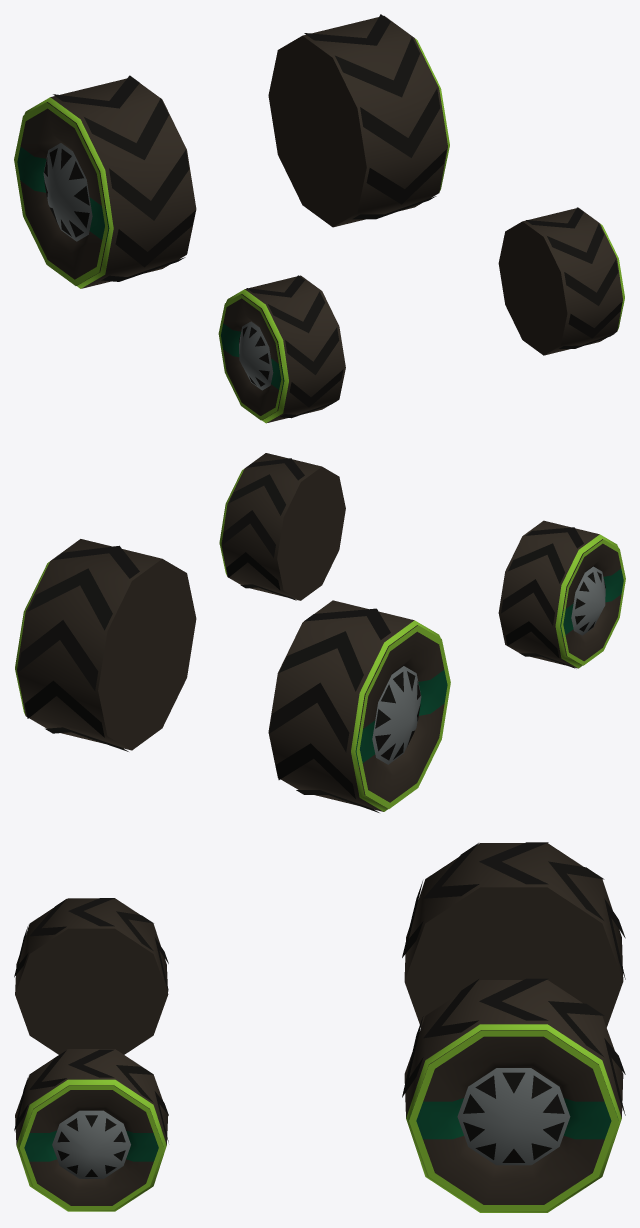
The model's file is MuscleWheel00R01.gltf.
3 views of the same model, one above another, from view 1: azimuth 30°, elevation 25°; view 2: azimuth 150°, elevation 25°; view 3: azimuth 270°, elevation 25° (orthographic). The views are drawn at different scales.
Parts seen in each view (by area): view 1: MuscleWheel00R01; view 2: MuscleWheel00R01; view 3: MuscleWheel00R01.
Boxes of the visible parts, <box> form: MuscleWheel00R01: <box>14,14,624,423</box>; MuscleWheel00R01: <box>15,453,625,812</box>; MuscleWheel00R01: <box>14,842,625,1212</box>.
Size of the model in its own units: 0.2104 by 0.0956 by 0.274.
